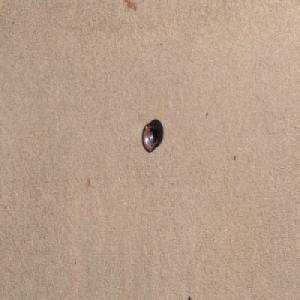FuelCap: (141, 122, 158, 153)
